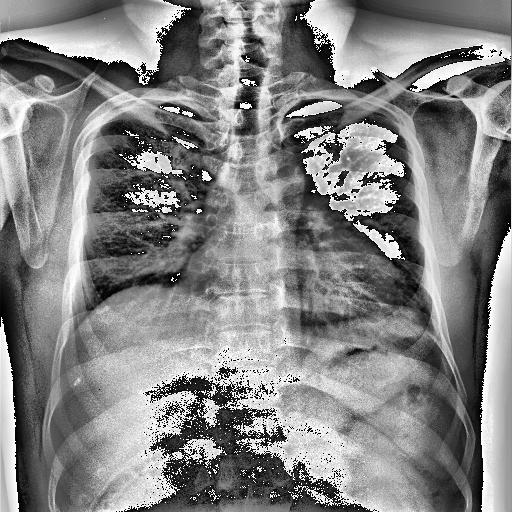3- Cardiomegaly: (172, 246, 405, 312), (176, 264, 404, 316), (176, 266, 408, 306)
